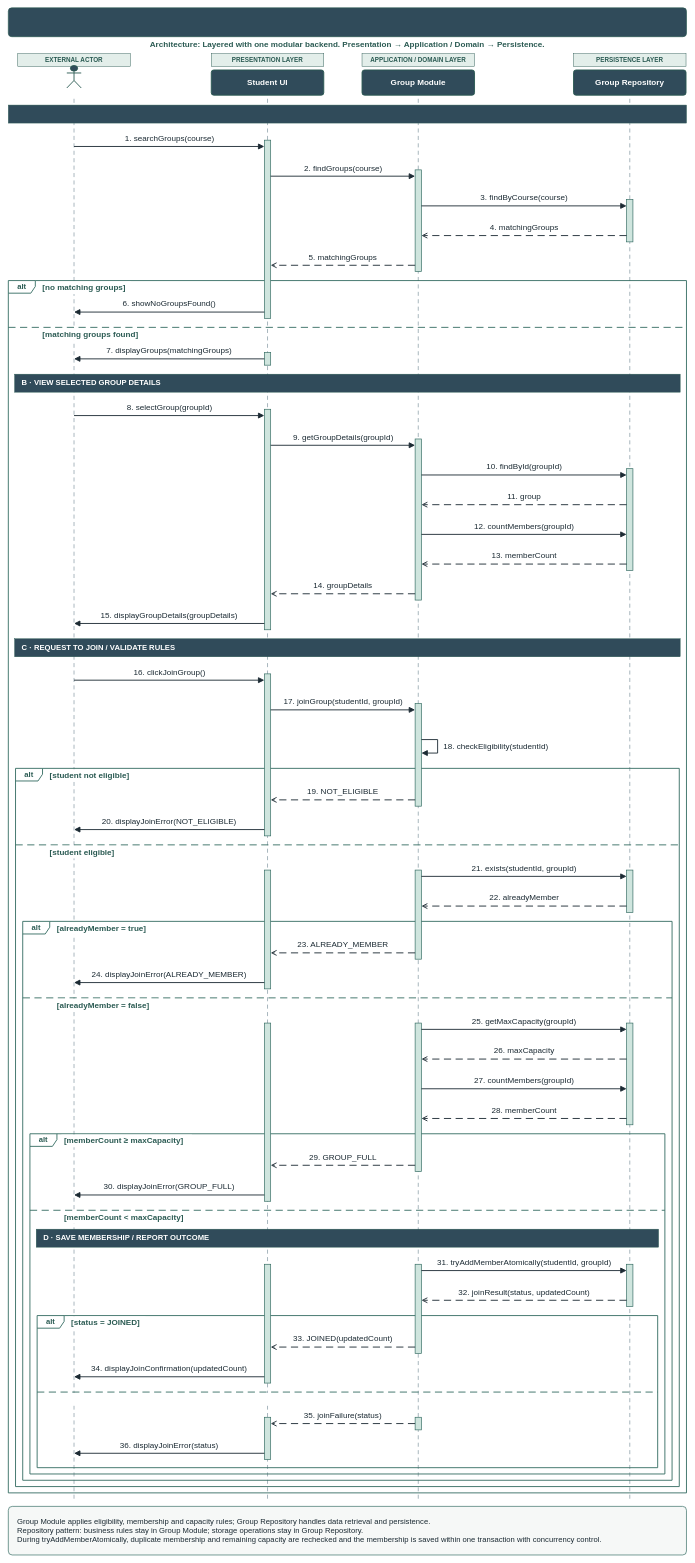
This 695x1563 diagram has some shape labels left out. Here are the shapes that lost their labels. From the top down, the box of each, then its label:
(8, 7, 687, 37): TutorCircle | US-04: Student Searches for and Joins a Tutoring Group
(66, 65, 81, 88): Student
(8, 105, 686, 123): A · SEARCH TUTORING GROUPS
(68, 1393, 350, 1405): [status = ALREADY_MEMBER or GROUP_FULL or SAVE_FAILED]
